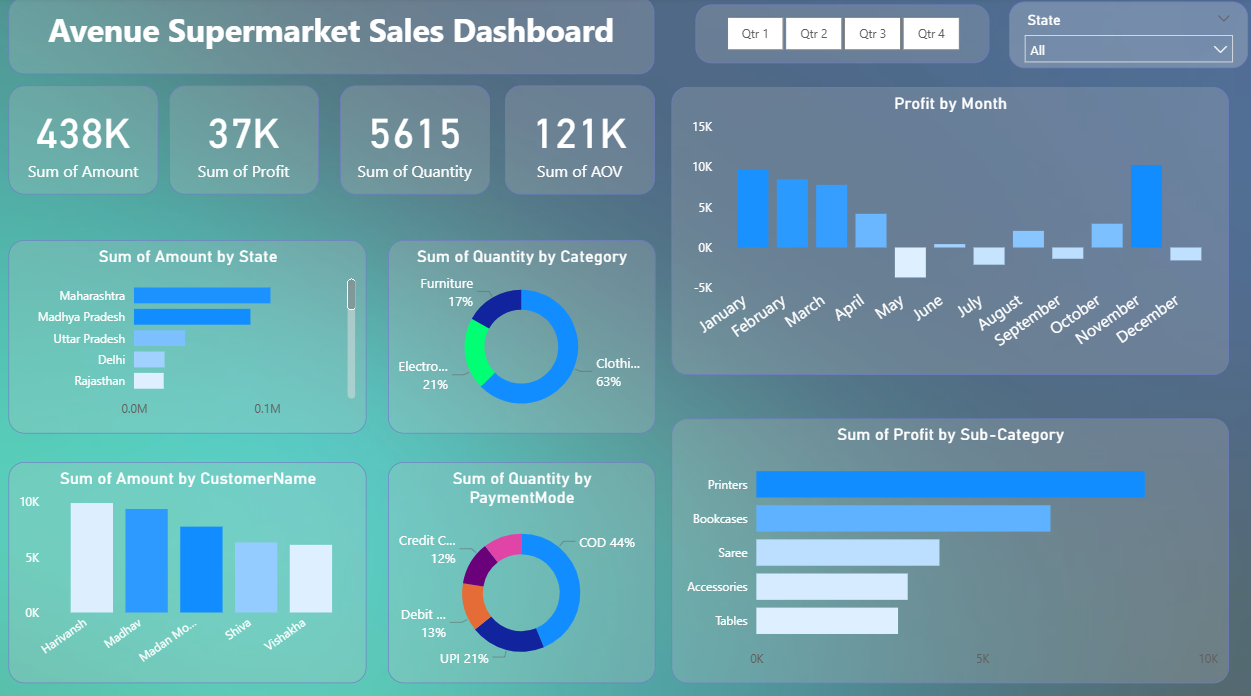

The dashboard page shown, as its layout file describes it:
{"tool":"powerbi","page":{"name":"Page 1","canvas":[1280,720],"ordinal":0},"visuals":[{"type":"textbox","box":[11,0,651.8,78.2],"z":0},{"type":"columnChart","title":"Profit by Month","fields":{"Y":["Details.Profit"],"Category":["Orders.Order Date.Variation.Date Hierarchy.Month"]},"box":[679.2,90.6,562.6,290.9],"z":1000},{"type":"barChart","fields":{"Category":["Details.Sub-Category"],"Y":["Details.Profit"]},"box":[679.2,425.4,562.6,267.6],"z":2000},{"type":"donutChart","fields":{"Category":["Details.Category"],"Y":["Details.Quantity"]},"box":[394.2,245.3,269.8,195.3],"z":3000},{"type":"donutChart","fields":{"Category":["Details.PaymentMode"],"Y":["Details.Quantity"]},"box":[394.2,469.8,269.8,223.3],"z":4000},{"type":"card","fields":{"Values":["Details.Amount"]},"box":[10,90,151.2,110],"z":5000},{"type":"card","fields":{"Values":["Details.Profit"]},"box":[172.5,90,151.2,110],"z":6000},{"type":"card","fields":{"Values":["Details.Quantity"]},"box":[345,90,151.2,110],"z":7000},{"type":"card","fields":{"Values":["Details.AOV"]},"box":[512.5,90,151.2,110],"z":8000},{"type":"barChart","fields":{"Category":["Orders.State"],"Y":["Details.Amount"]},"box":[10.5,245.3,361.6,195.3],"z":9000},{"type":"columnChart","fields":{"Category":["Orders.CustomerName"],"Y":["Details.Amount"]},"box":[10.5,469.8,361.6,223.3],"z":10000},{"type":"slicer","fields":{"Values":["Orders.Order Date.Variation.Date Hierarchy.Quarter"]},"box":[703.9,8.2,296.4,59],"z":11000},{"type":"slicer","fields":{"Values":["Orders.State"]},"box":[1020.9,4.1,241.5,67.2],"z":12000}]}

Visuals, with their boxes in screenshot pixels (x1, y1, x2, y2), scaled from the page's 1280x720 canvas onto the 1251x696 screenshot:
textbox: select_region(11, 0, 648, 76)
"Profit by Month" columnChart: select_region(664, 88, 1214, 369)
barChart - Details.Sub-Category x Details.Profit: select_region(664, 411, 1214, 670)
donutChart - Details.Category x Details.Quantity: select_region(385, 237, 649, 426)
donutChart - Details.PaymentMode x Details.Quantity: select_region(385, 454, 649, 670)
card - Details.Amount: select_region(10, 87, 158, 193)
card - Details.Profit: select_region(169, 87, 316, 193)
card - Details.Quantity: select_region(337, 87, 485, 193)
card - Details.AOV: select_region(501, 87, 649, 193)
barChart - Orders.State x Details.Amount: select_region(10, 237, 364, 426)
columnChart - Orders.CustomerName x Details.Amount: select_region(10, 454, 364, 670)
slicer - Orders.Order Date.Variation.Date Hierarchy.Quarter: select_region(688, 8, 978, 65)
slicer - Orders.State: select_region(998, 4, 1234, 69)
